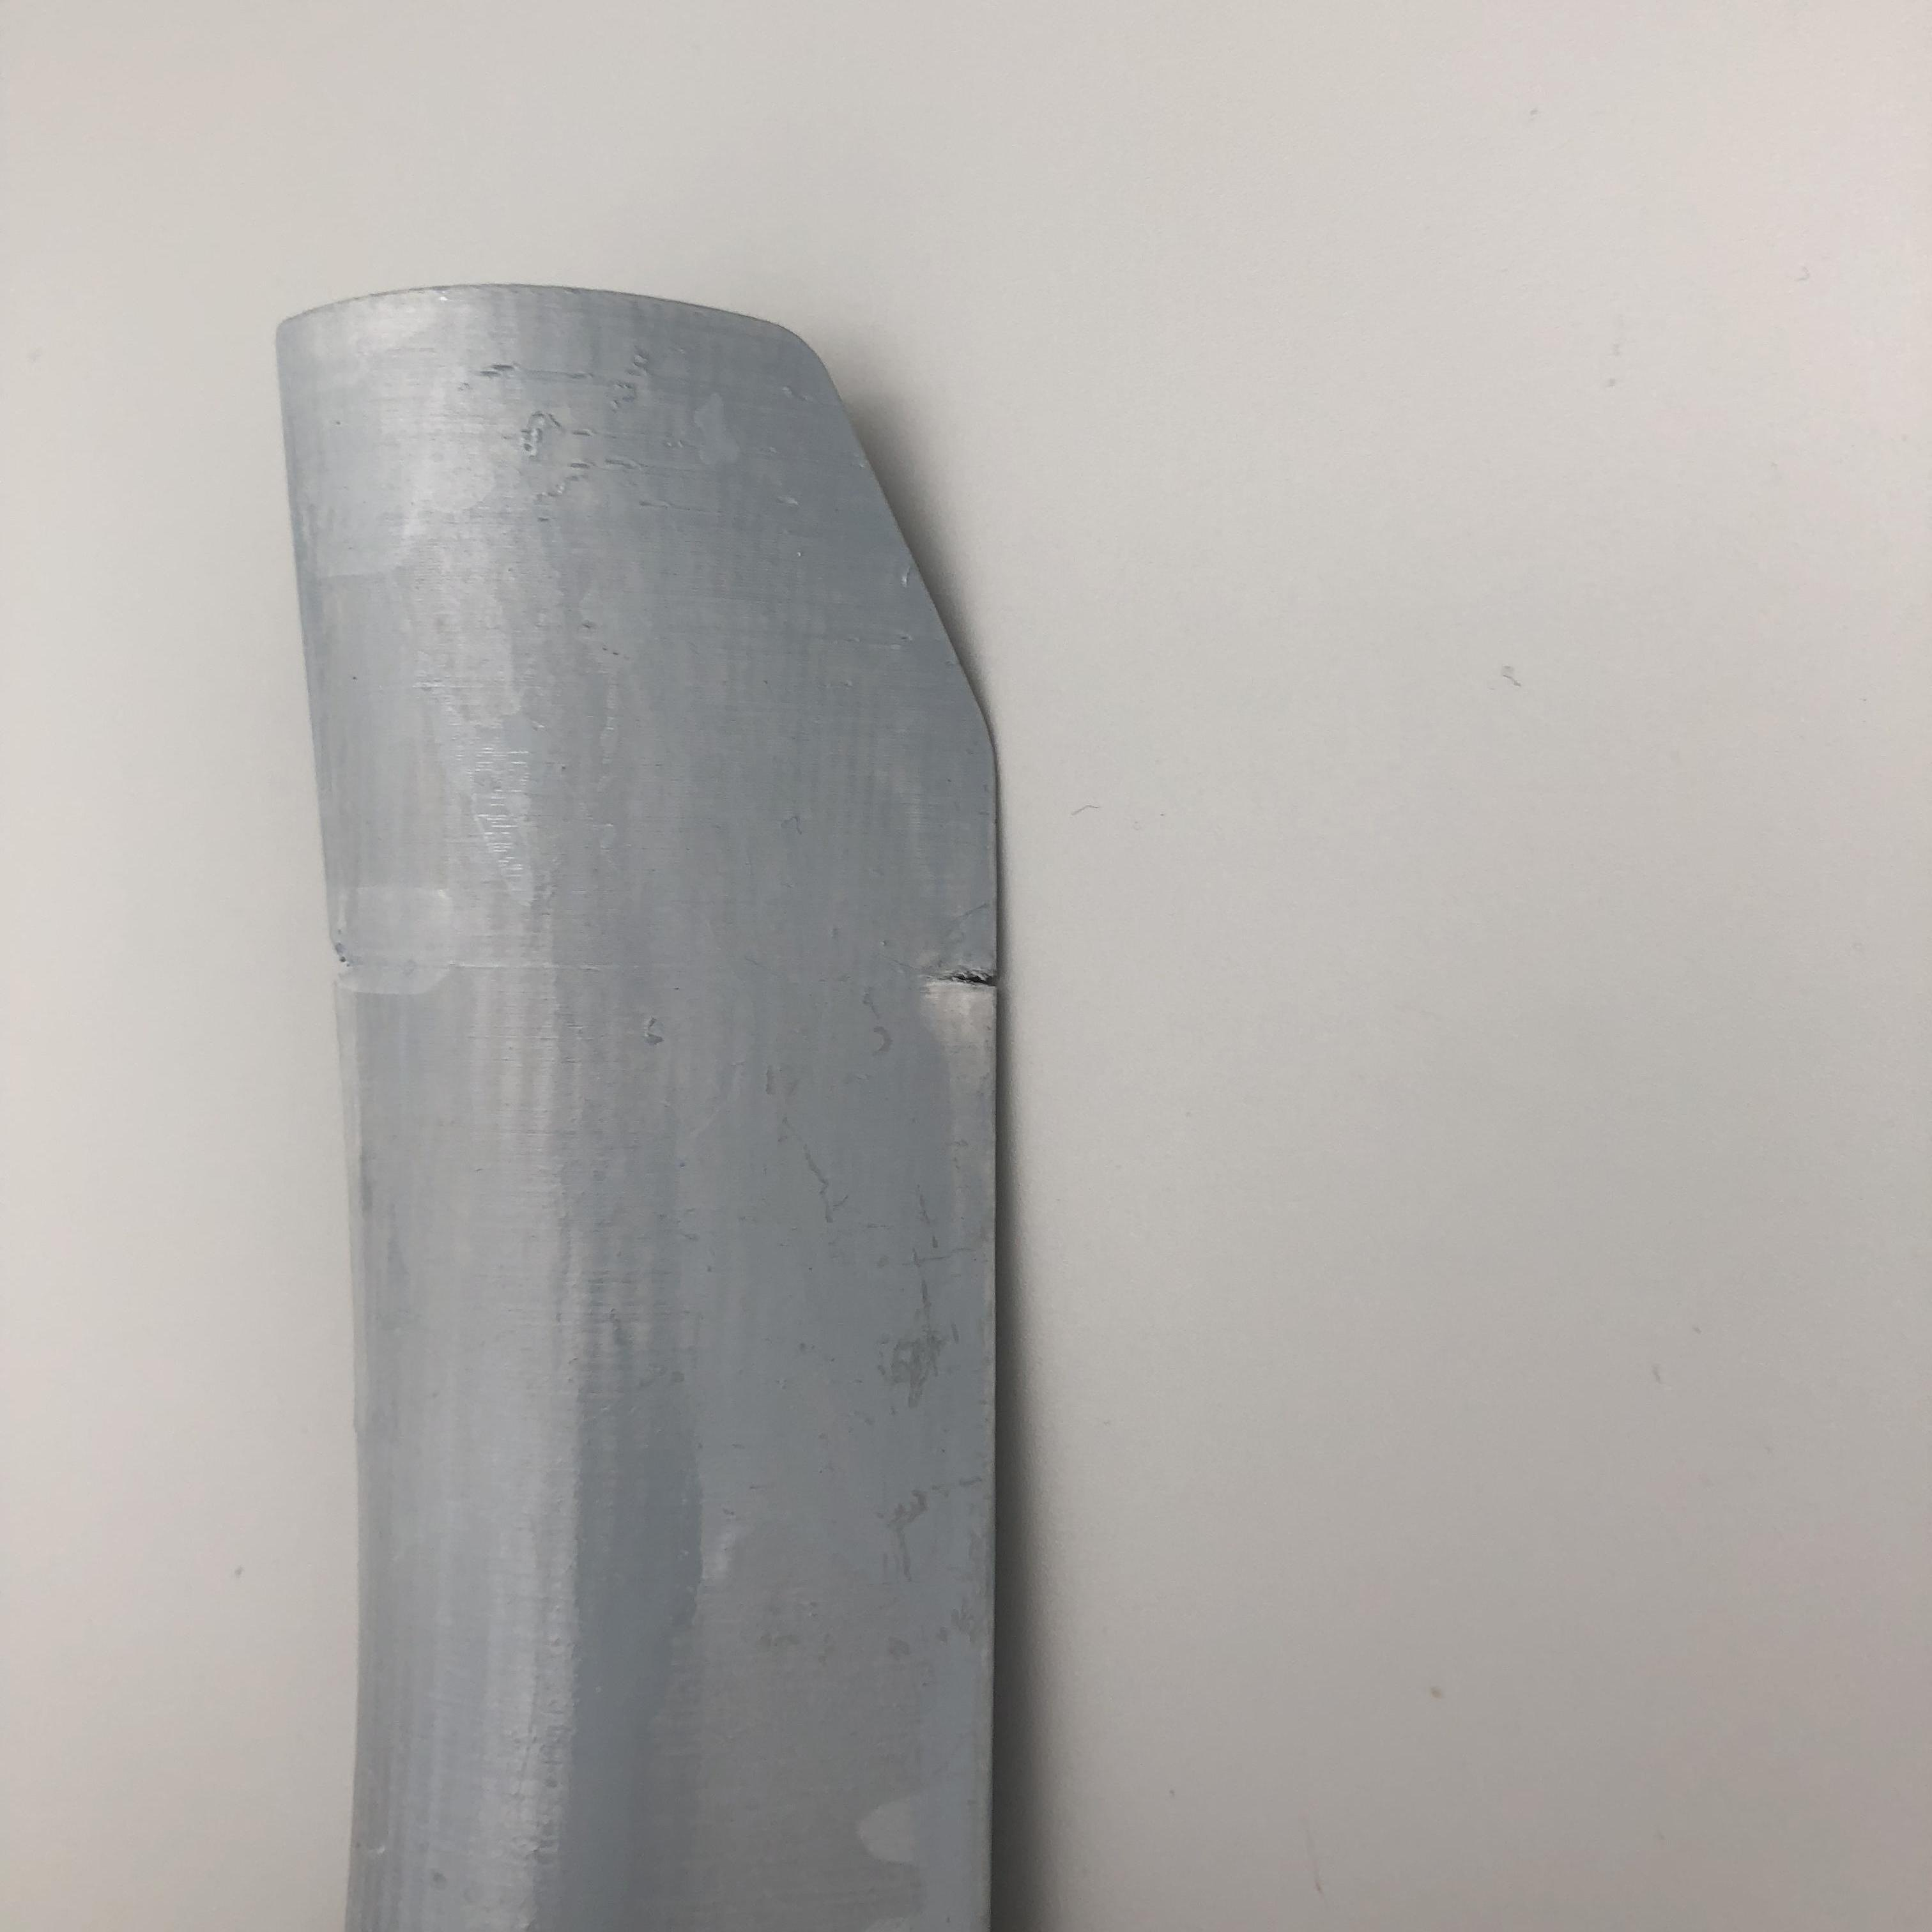groove: (929, 948, 998, 1007), (331, 939, 363, 970)
